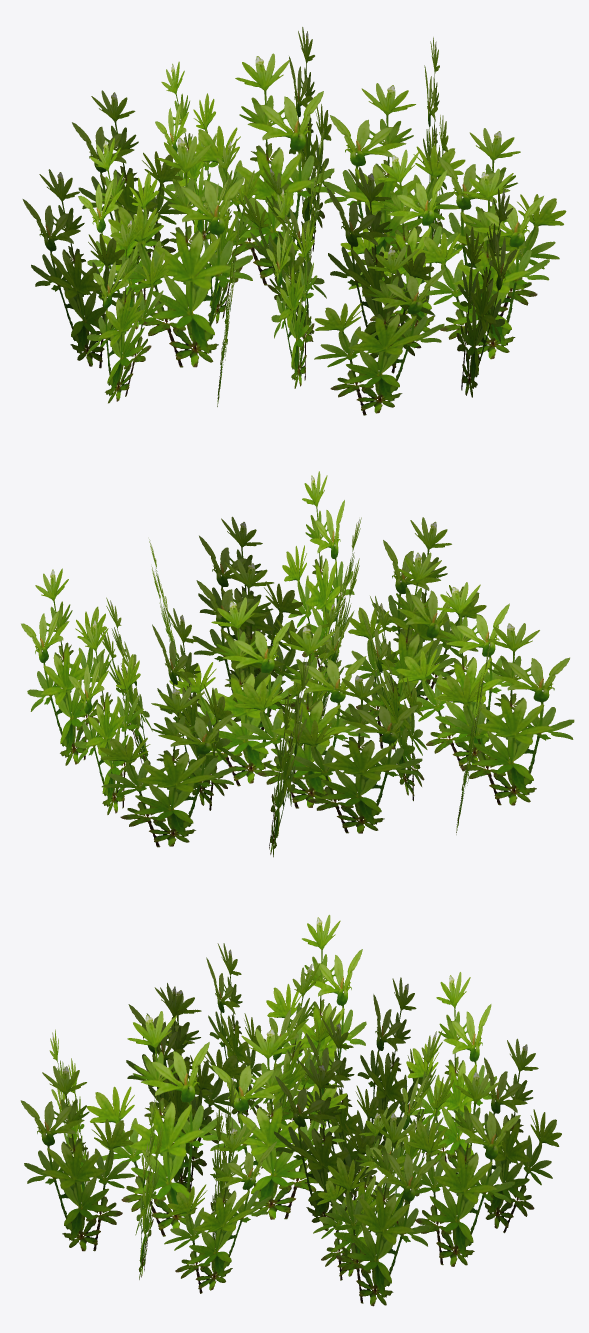
Rendered from ForestPlant1-2.fbx.
3 renders of one model, top to bottom at view 1: azimuth 30°, elevation 25°; view 2: azimuth 150°, elevation 25°; view 3: azimuth 270°, elevation 25°, orthographic. The views are drawn at different scales.
Visible parts, largest first — view 1: ForestPlant1-2; view 2: ForestPlant1-2; view 3: ForestPlant1-2.
Boxes of the visible parts, x1,y1,x2,y2 form: ForestPlant1-2: (22, 27, 566, 415); ForestPlant1-2: (21, 471, 574, 857); ForestPlant1-2: (20, 914, 561, 1306).
Bounding box in the file's own units: 169 × 76.84 × 178.
